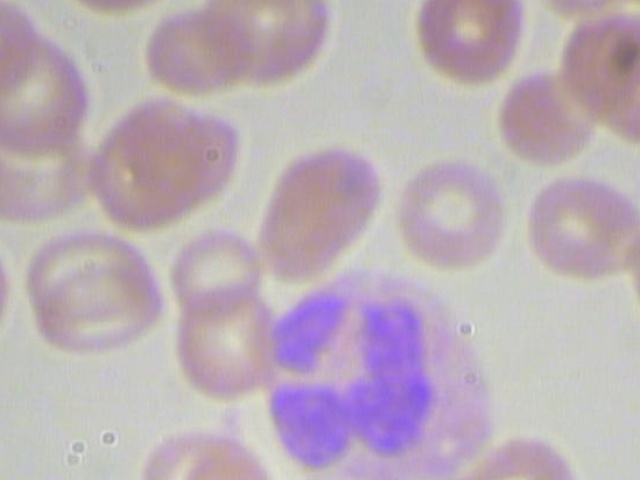RBC: (247, 139, 392, 293), (77, 91, 213, 231), (388, 154, 517, 284), (171, 279, 278, 405), (28, 261, 165, 359), (525, 174, 640, 282), (492, 61, 601, 170), (138, 0, 257, 98), (405, 0, 529, 90), (165, 225, 271, 313), (636, 185, 640, 339)
WBC: (250, 260, 503, 480)
